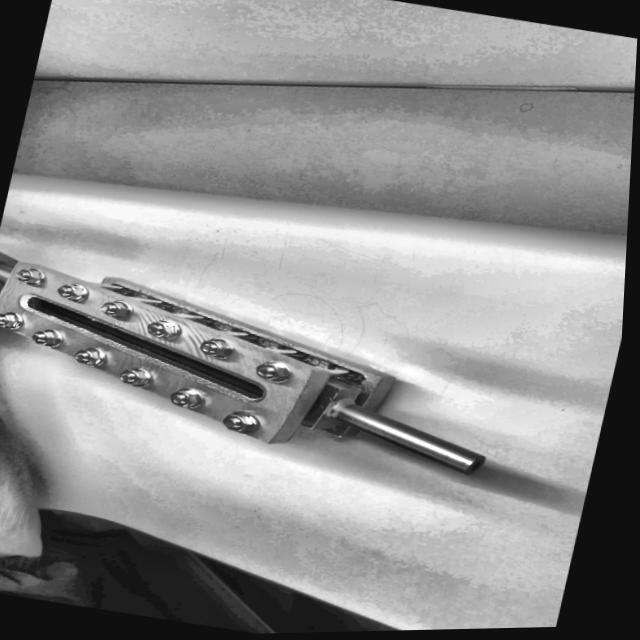ShuiWeiQi_12: (0, 240, 521, 479)
